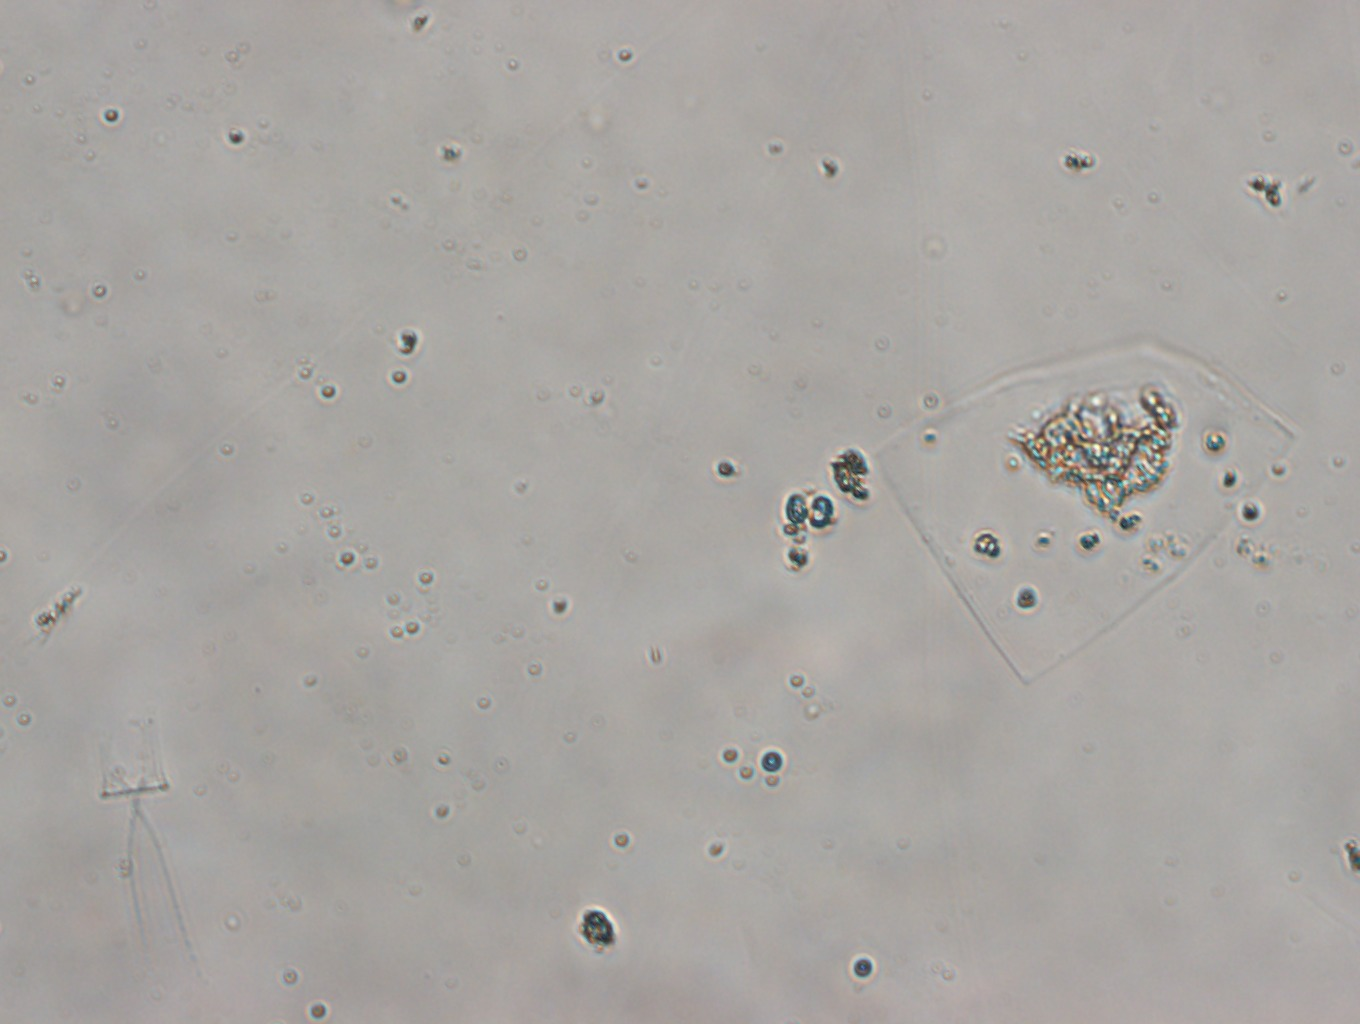helicotheca: (859, 329, 1295, 689)
